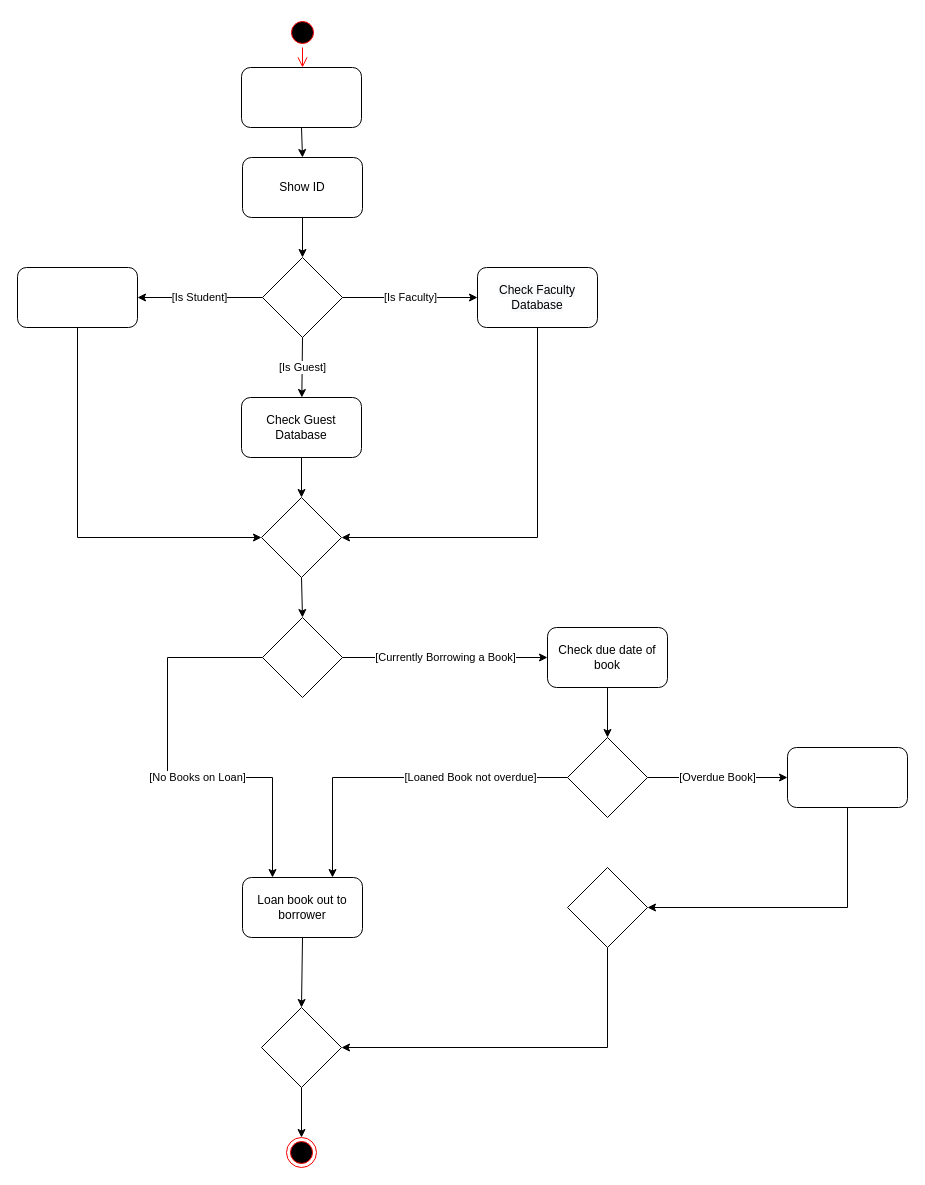
Some shapes in this 925 by 1185 pixel diagram are drawn without their labels. The shapes that lost their labels are listed below. From the top down, each one's centre as x and y in pixels, then its label:
point 301,97: Borrow Book
point 77,297: Check Student Database
point 847,777: Reject request to borrow new book
